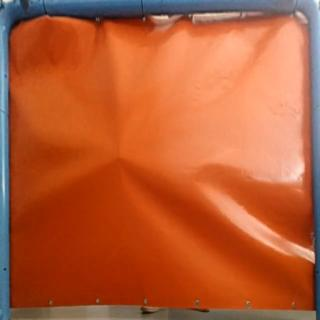Hit-hRxx: (114, 152, 125, 163)
